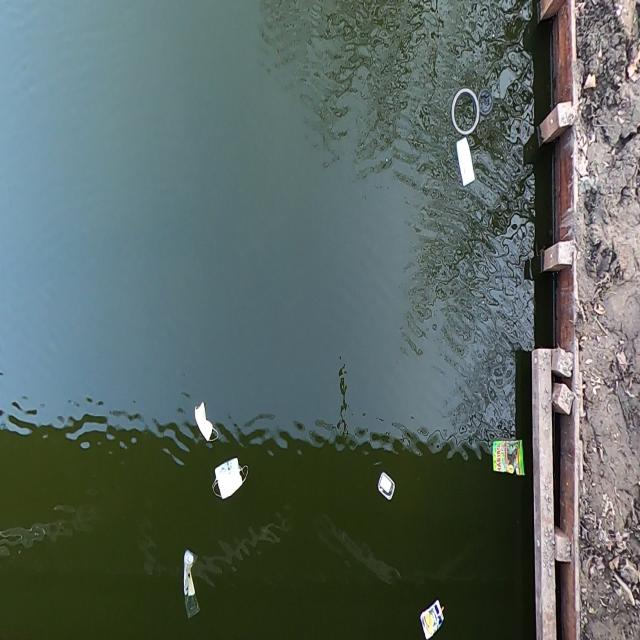Autre plastique: (488, 436, 529, 486), (420, 594, 446, 640), (378, 467, 398, 502)
Non plastique: (210, 458, 253, 502), (189, 397, 222, 452)
Sac plastique: (179, 545, 202, 627)
